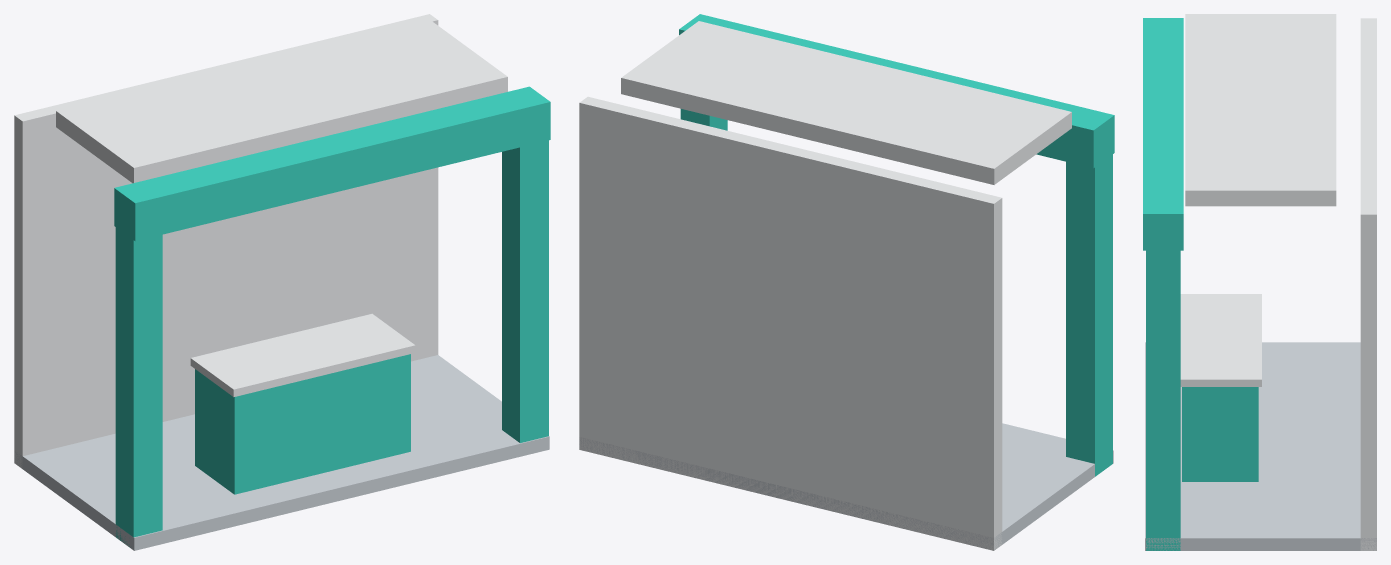
3 renders of one model, left to right at view 1: azimuth 30°, elevation 25°; view 2: azimuth 150°, elevation 25°; view 3: azimuth 270°, elevation 25°, orthographic. The views are drawn at different scales.
Parts seen in each view (by area): view 1: Exhibition Booth Concept; view 2: Exhibition Booth Concept; view 3: Exhibition Booth Concept.
Part boxes in pixels (bbox=[...]): Exhibition Booth Concept: bbox=[14, 14, 550, 550]; Exhibition Booth Concept: bbox=[579, 14, 1114, 550]; Exhibition Booth Concept: bbox=[1143, 14, 1376, 550].
Bounding box in the file's own units: 4 × 3.34 × 2.01.
